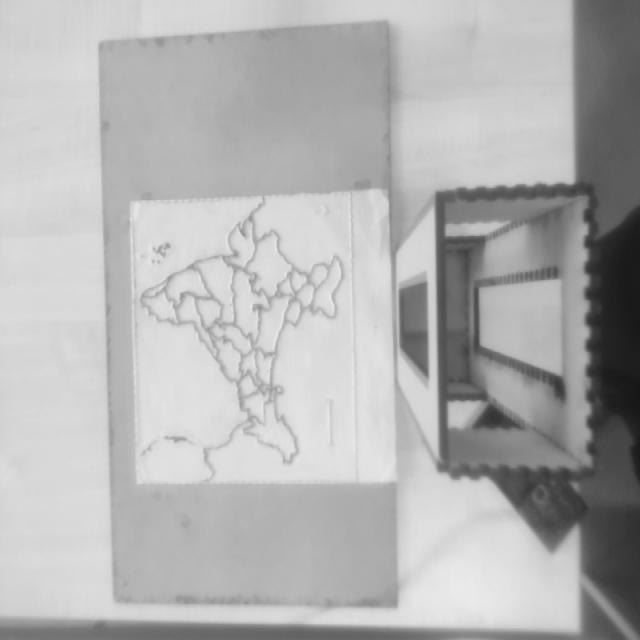map: (130, 192, 357, 486)
